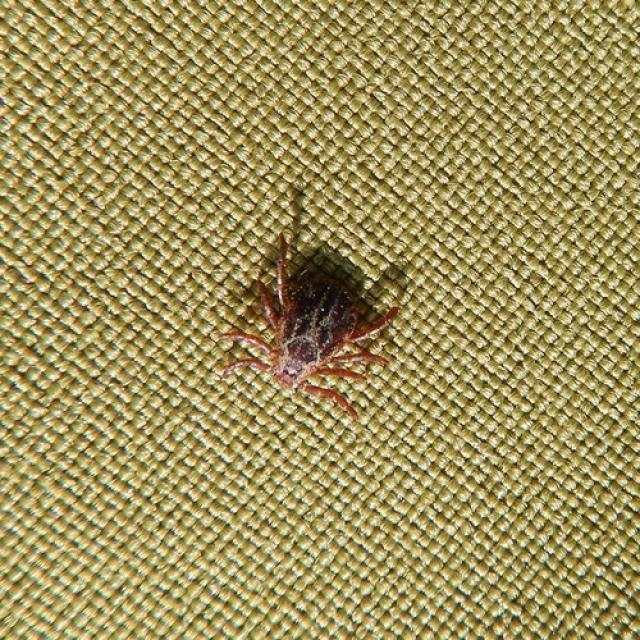Dermacentor Reticulatus-M: (225, 233, 399, 420)
